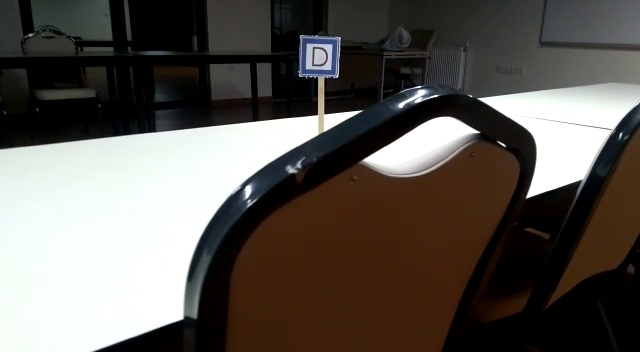durak: (300, 38, 338, 75)
